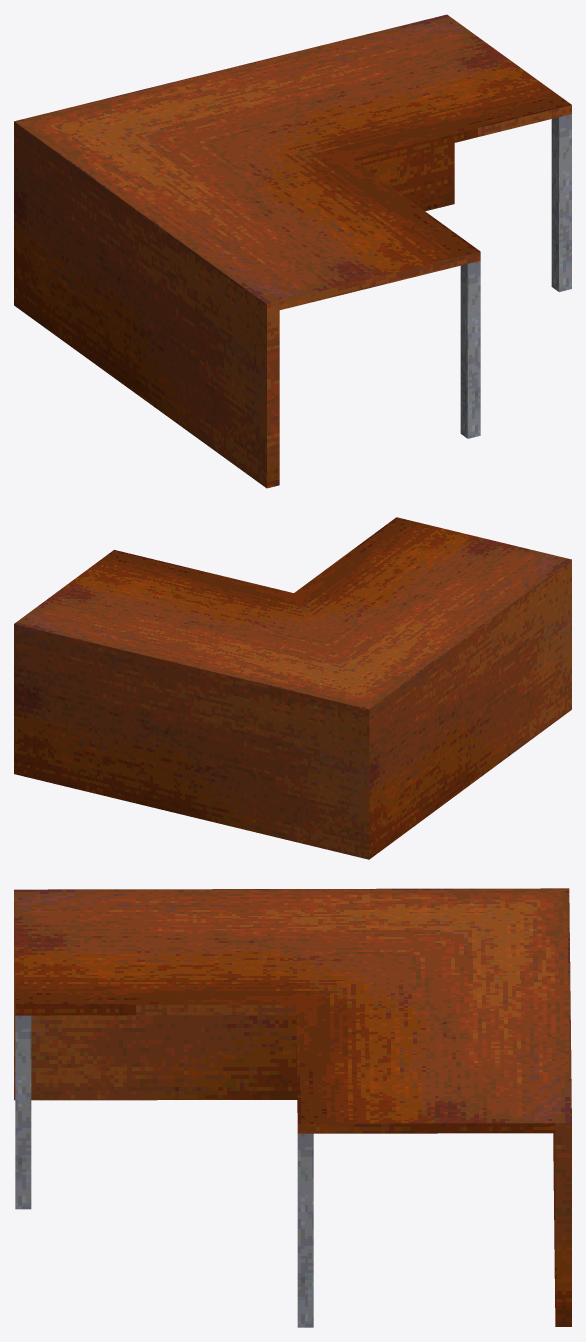
File: desk1_corner.glb
3 renders of one model, top to bottom at view 1: azimuth 30°, elevation 25°; view 2: azimuth 150°, elevation 25°; view 3: azimuth 270°, elevation 25°, orthographic. The views are drawn at different scales.
Visible parts, largest first — view 1: desk1_corner; view 2: desk1_corner; view 3: desk1_corner.
Boxes of the visible parts, x1=… form: desk1_corner: x1=14, y1=14, x2=571, y2=488; desk1_corner: x1=14, y1=517, x2=571, y2=859; desk1_corner: x1=14, y1=888, x2=571, y2=1327.
Size of the model in its own units: 2.21 by 0.8911 by 2.21.
1 material, 1 textured.
